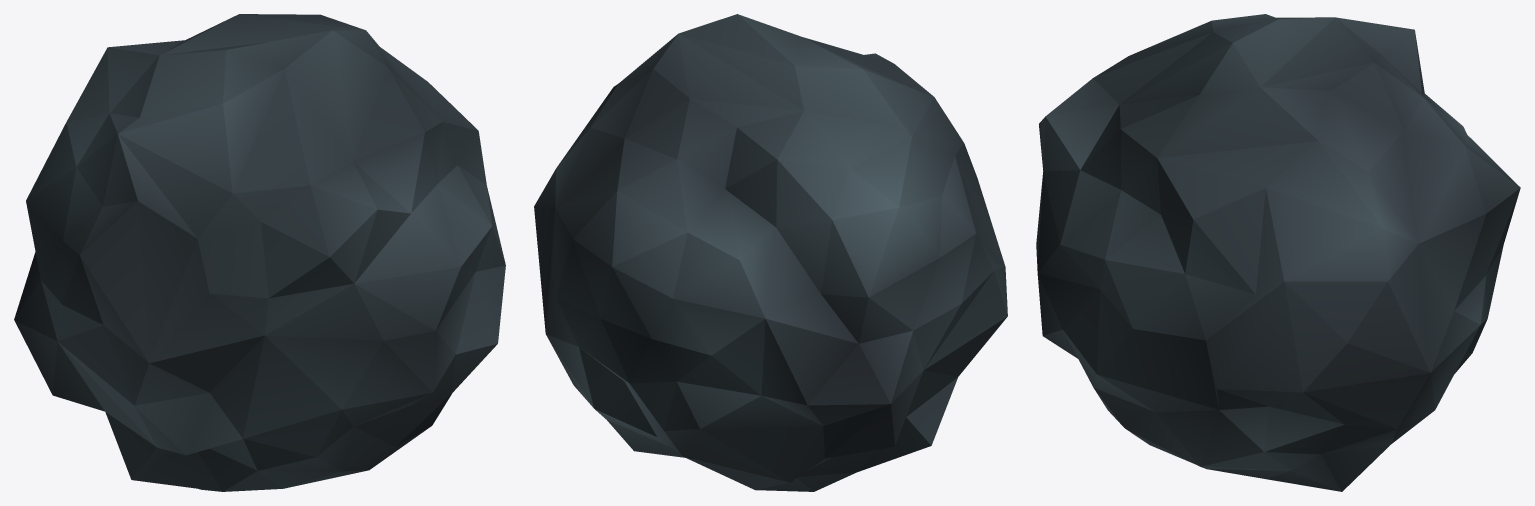
File: Mercury.fbx
3 renders of one model, left to right at view 1: azimuth 30°, elevation 25°; view 2: azimuth 150°, elevation 25°; view 3: azimuth 270°, elevation 25°, orthographic. The views are drawn at different scales.
Parts seen in each view (by area): view 1: Mercury; view 2: Mercury; view 3: Mercury.
Boxes of the visible parts, box(x1,y1,x2,y2) form: Mercury: box(14, 14, 505, 491); Mercury: box(534, 14, 1007, 491); Mercury: box(1036, 14, 1520, 491).
Size of the model in its own units: 5.98 by 6.36 by 6.22.
